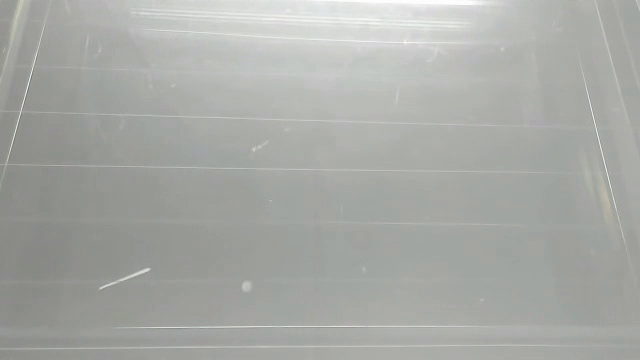alpha: (93, 265, 155, 292), (236, 275, 260, 297)
